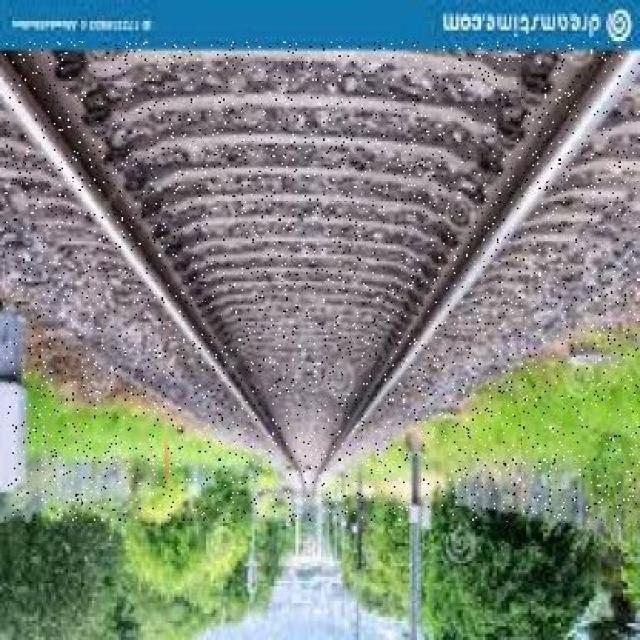rail: (6, 41, 640, 522)
